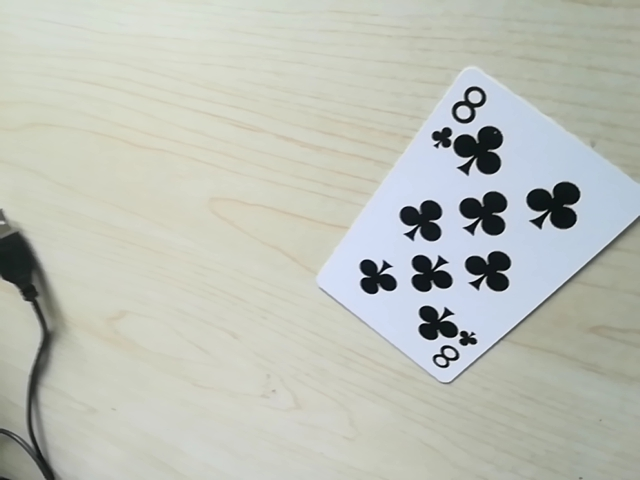mh 8: (432, 78, 492, 143), (417, 331, 480, 378)
